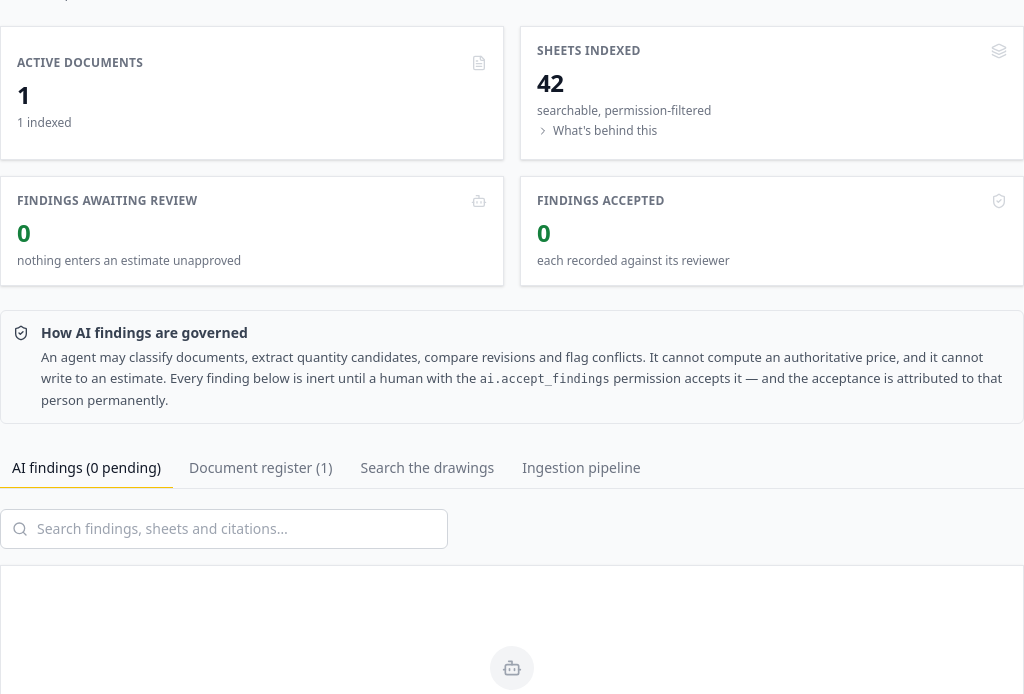
Test: reading a document › says how many claims the citation guard refused
Click the tab "Document register (1)" at (261, 468), box left=177, top=448, right=344, bottom=488
(page scrolled)
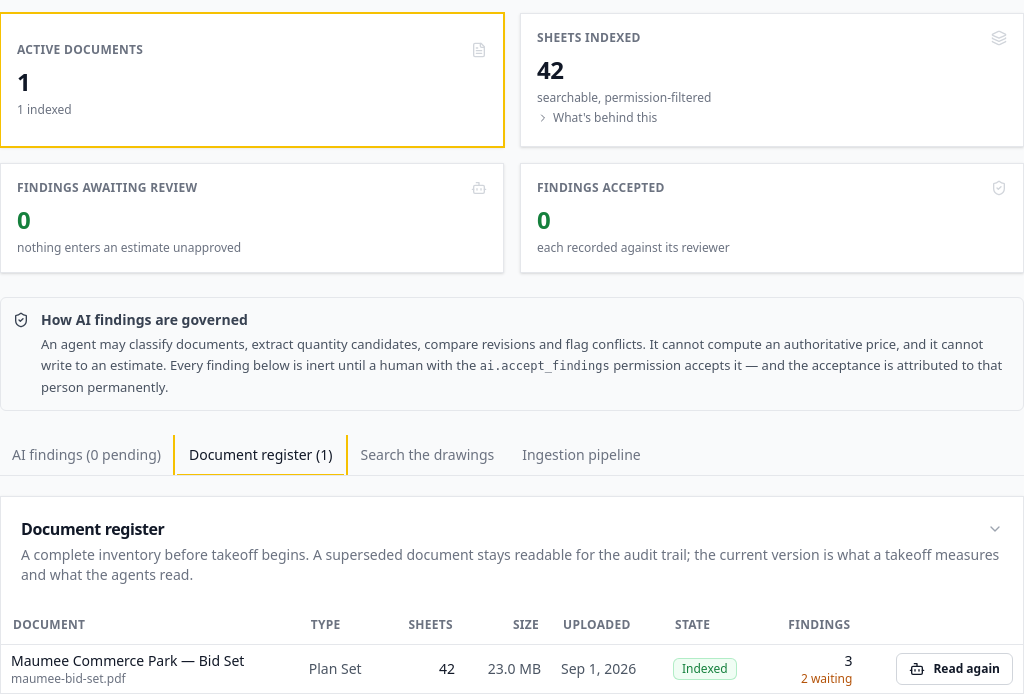
Click the button "Read again" at (955, 669), box left=896, top=653, right=1013, bottom=685
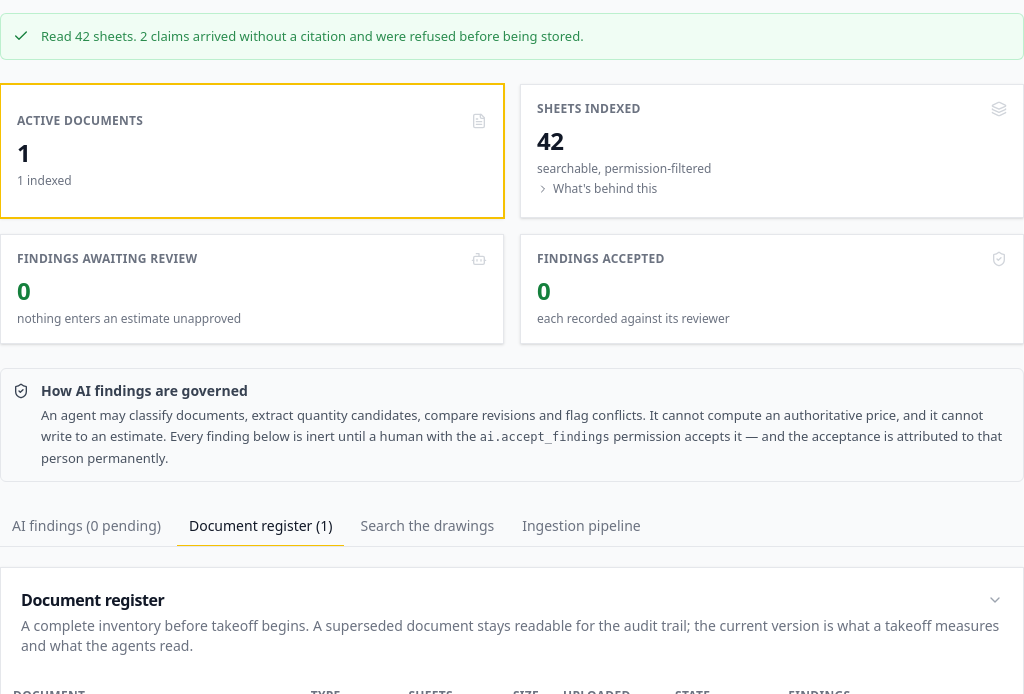
Check: the text "2 claims arrived without a citation" is shown, box left=41, top=27, right=584, bottom=45
